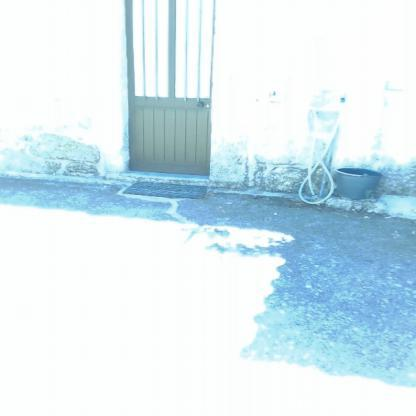door: (124, 0, 212, 170)
knob: (196, 102, 203, 108)
